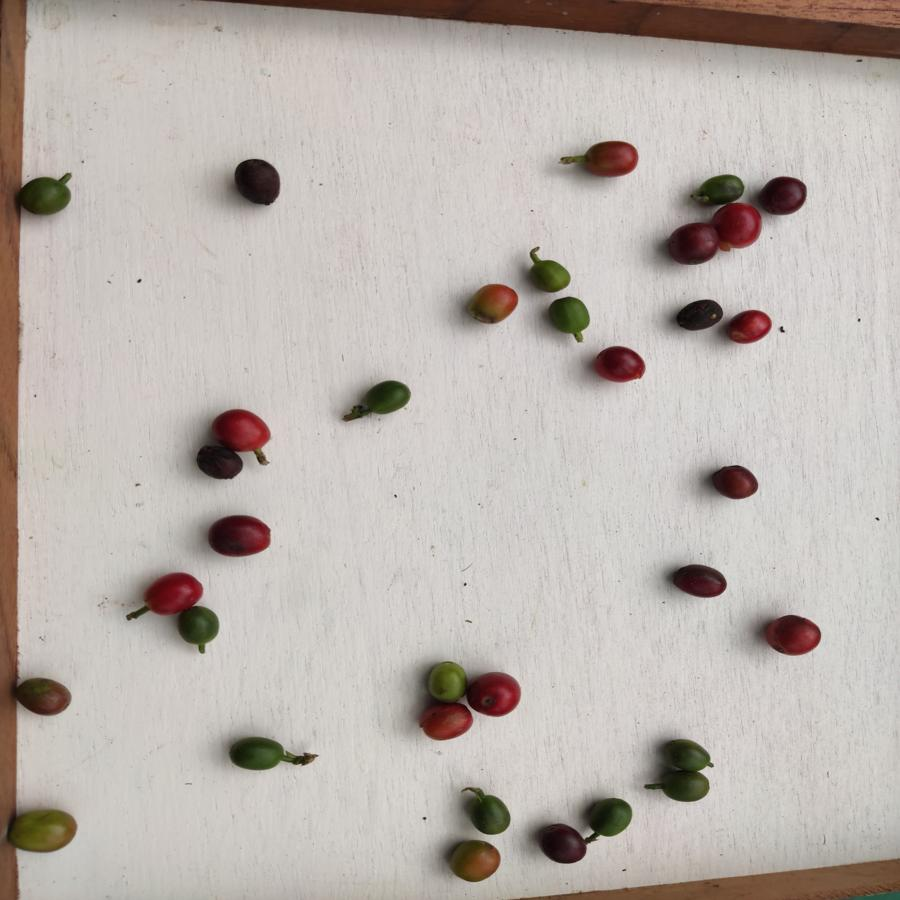Inmaduro: (16, 175, 77, 216), (226, 736, 287, 772), (659, 736, 718, 773), (584, 795, 634, 838), (361, 378, 412, 418), (469, 791, 513, 836), (656, 773, 715, 806), (178, 606, 221, 648), (527, 258, 576, 293), (548, 297, 593, 335), (695, 173, 745, 204)
Maduro: (212, 406, 274, 451), (467, 671, 521, 719), (715, 201, 765, 251), (576, 139, 641, 177), (417, 702, 473, 743), (144, 572, 205, 607), (727, 306, 775, 350)
Pinton: (7, 807, 80, 854), (447, 838, 502, 886), (589, 344, 648, 388), (15, 676, 74, 718), (463, 283, 518, 325), (427, 656, 467, 702)
Sobremaduro: (207, 511, 274, 559), (663, 220, 722, 267), (761, 615, 828, 656), (233, 155, 282, 208), (669, 562, 728, 599), (537, 825, 590, 866), (757, 174, 810, 214), (193, 443, 246, 481), (711, 463, 763, 501), (674, 297, 724, 334)
